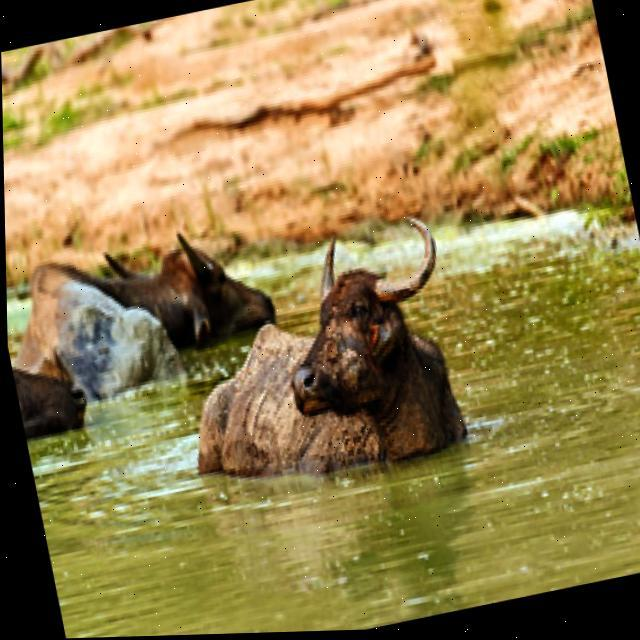Buffalo: (153, 205, 477, 505)
